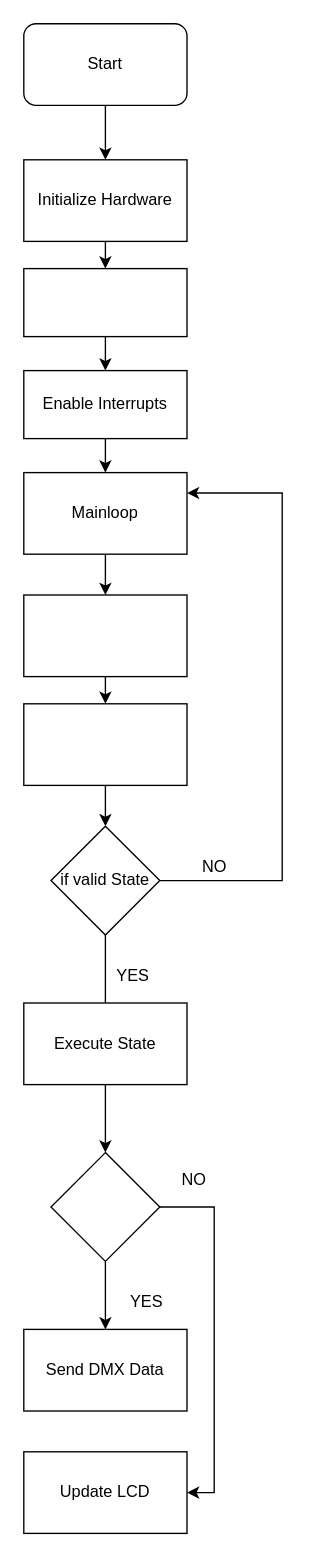
This 317x1557 diagram has some shape labels left out. Here are the shapes that lost their labels. From the top down, the centre of each, then its label:
(104,302): Initialize Software
(104,635): Update Software states
(104,743): Set LCD to 0,0
(105,1206): If Master Enabled
